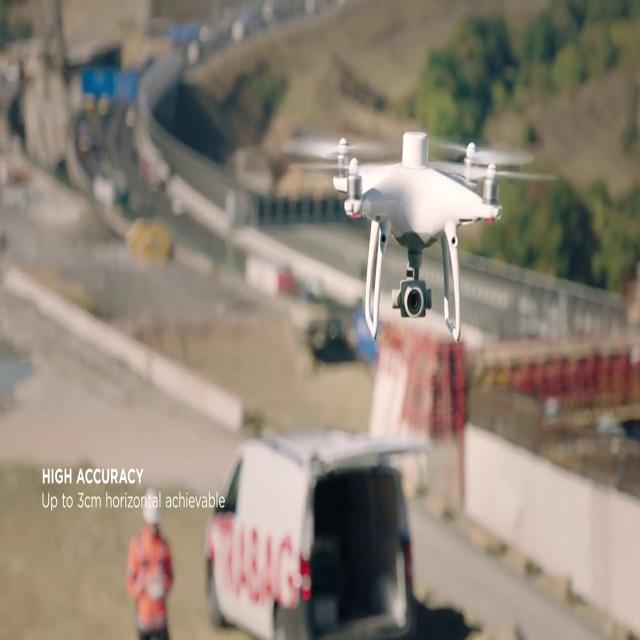drone: (279, 128, 562, 346)
